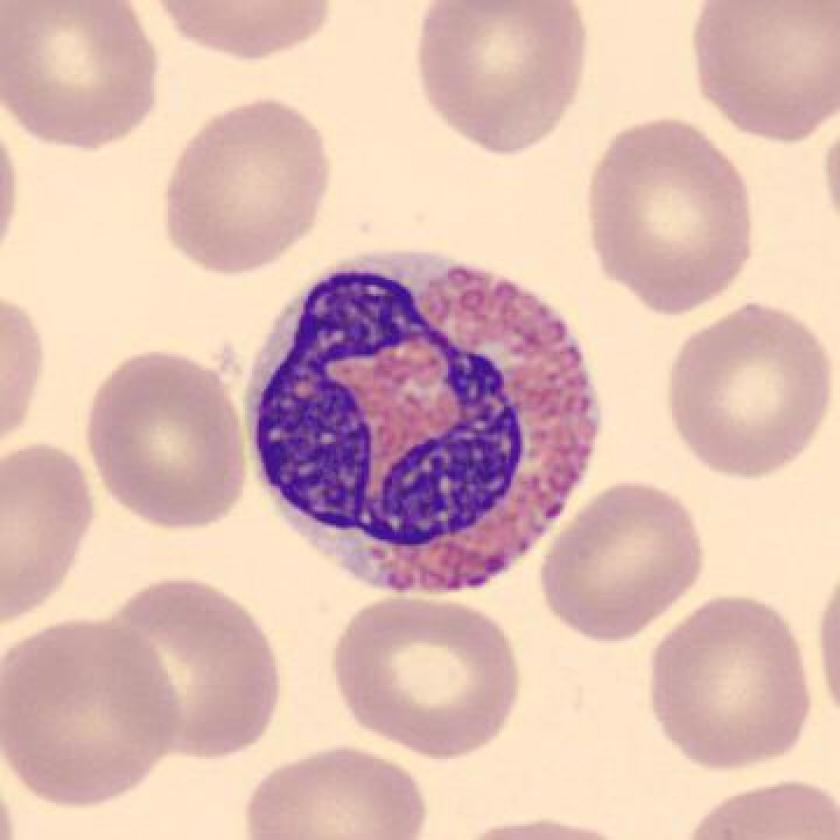eosinophil: (232, 233, 612, 603)
